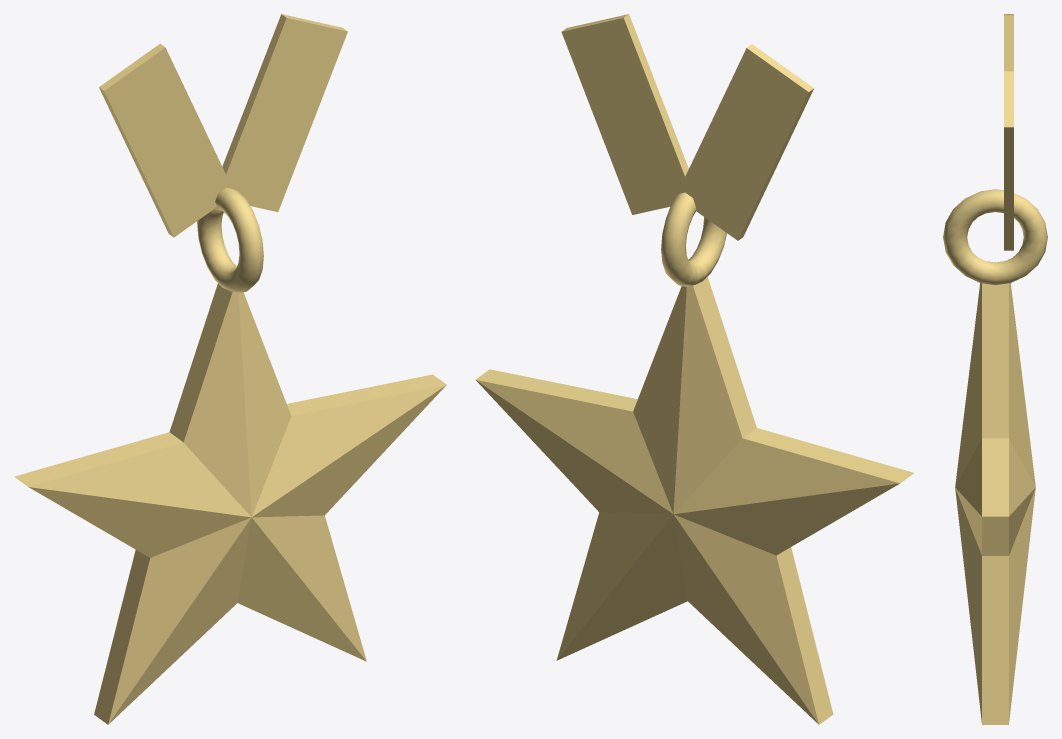
File: starmedal.glb
3 views of the same model, side by side, from view 1: azimuth 30°, elevation 25°; view 2: azimuth 150°, elevation 25°; view 3: azimuth 270°, elevation 25° (orthographic). The views are drawn at different scales.
Parts seen in each view (by area): view 1: starmedal; view 2: starmedal; view 3: starmedal.
Part boxes in pixels (left/top/right/bottom): starmedal: left=14, top=14, right=446, bottom=724; starmedal: left=475, top=14, right=913, bottom=724; starmedal: left=943, top=14, right=1047, bottom=724.
Size of the model in its own units: 0.6848 by 1.02 by 0.156.
